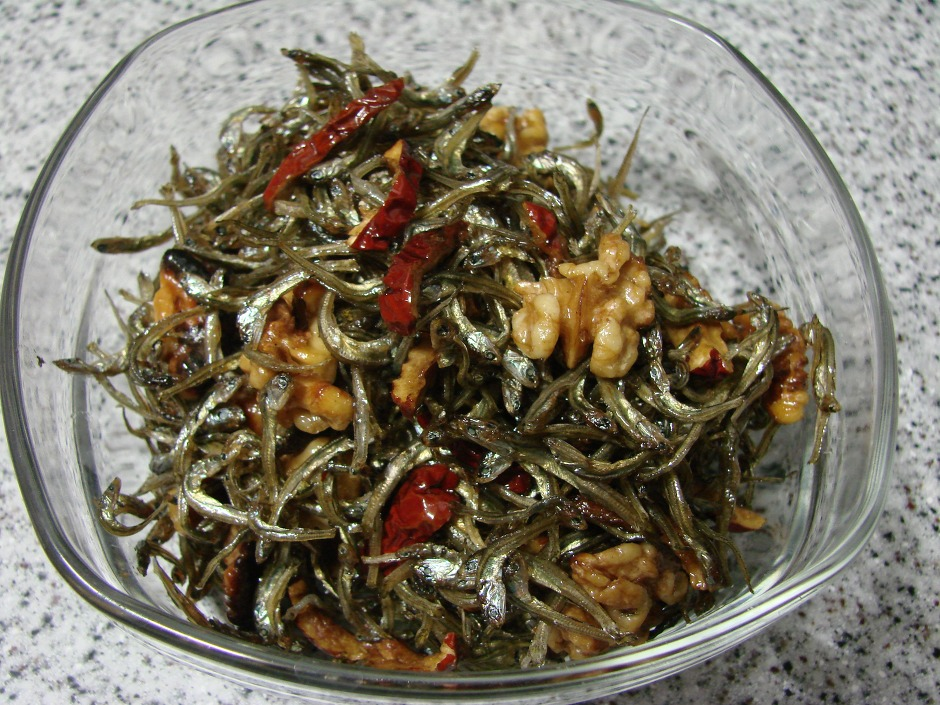myeolchibokk-eum: (56, 29, 833, 676)
